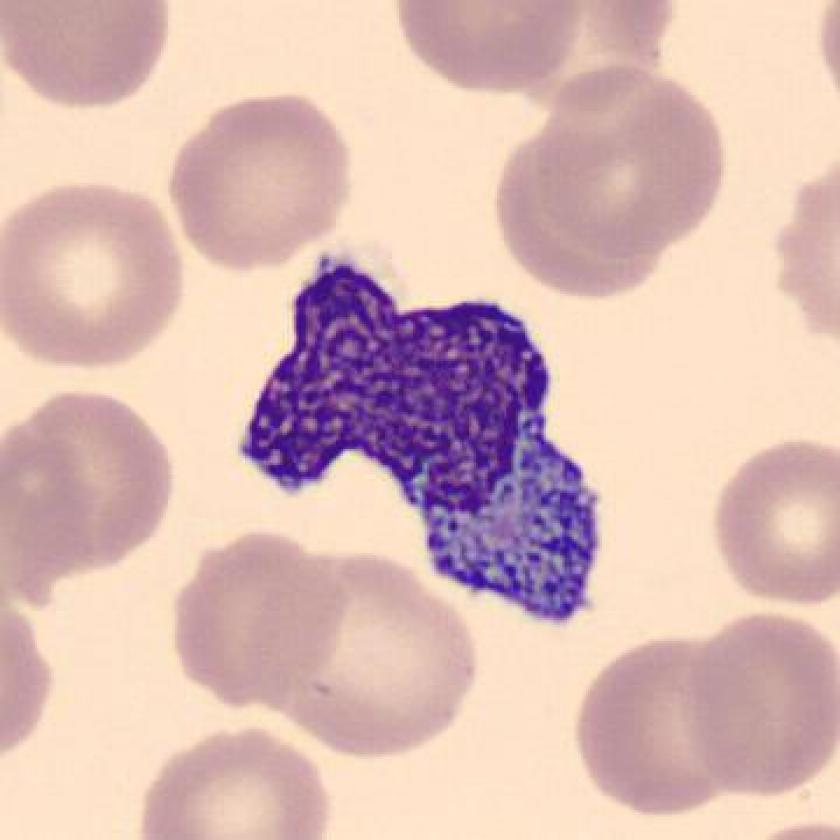monocyte: (218, 240, 631, 645)
